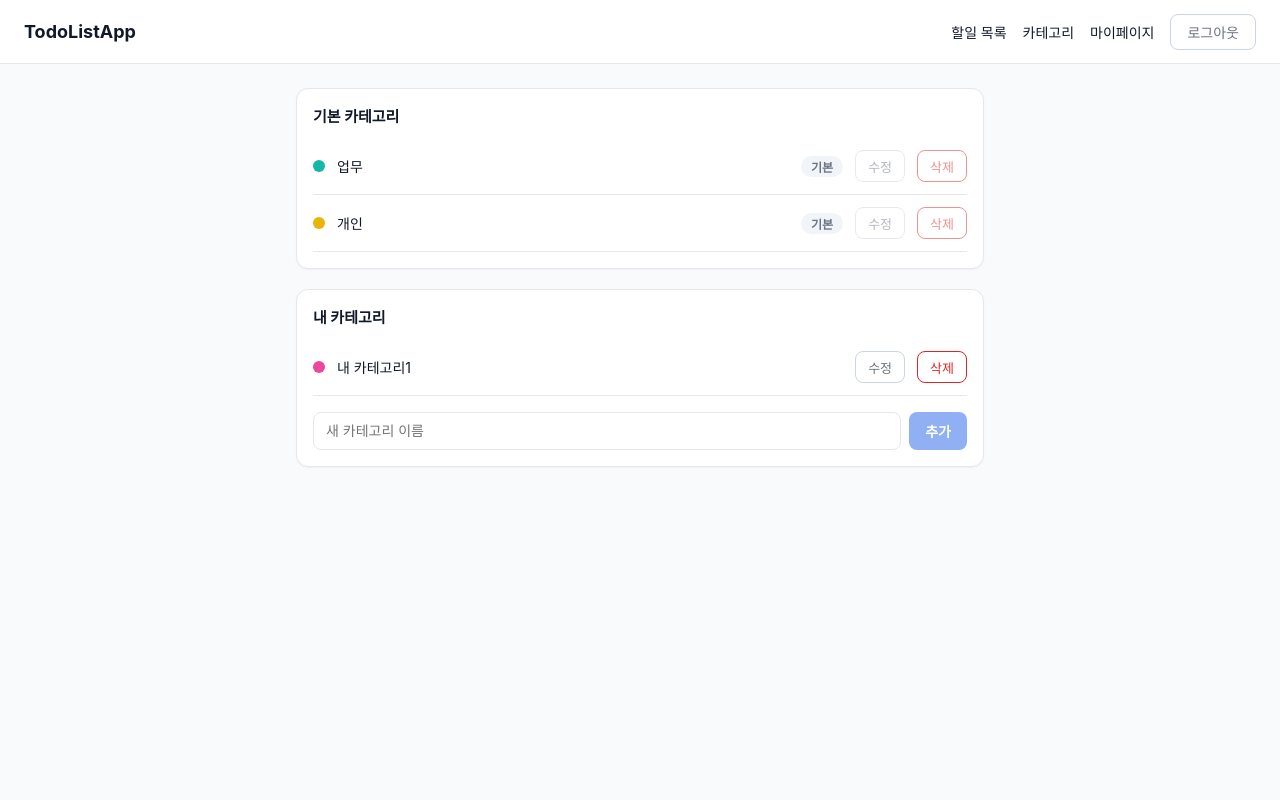
Test: CategoriesPage › 삭제 시 연결 할일 존재(409 CATEGORY_HAS_TODOS) → 친화 오류 메시지
Check: the text "내 카테고리1" is shown, box [337,359,411,376]
What coordinates should you click on to do the following:
click the button "삭제" in the row of "내 카테고리1"
I would click on:
 (942, 367)
Its box is [917,351,967,383].
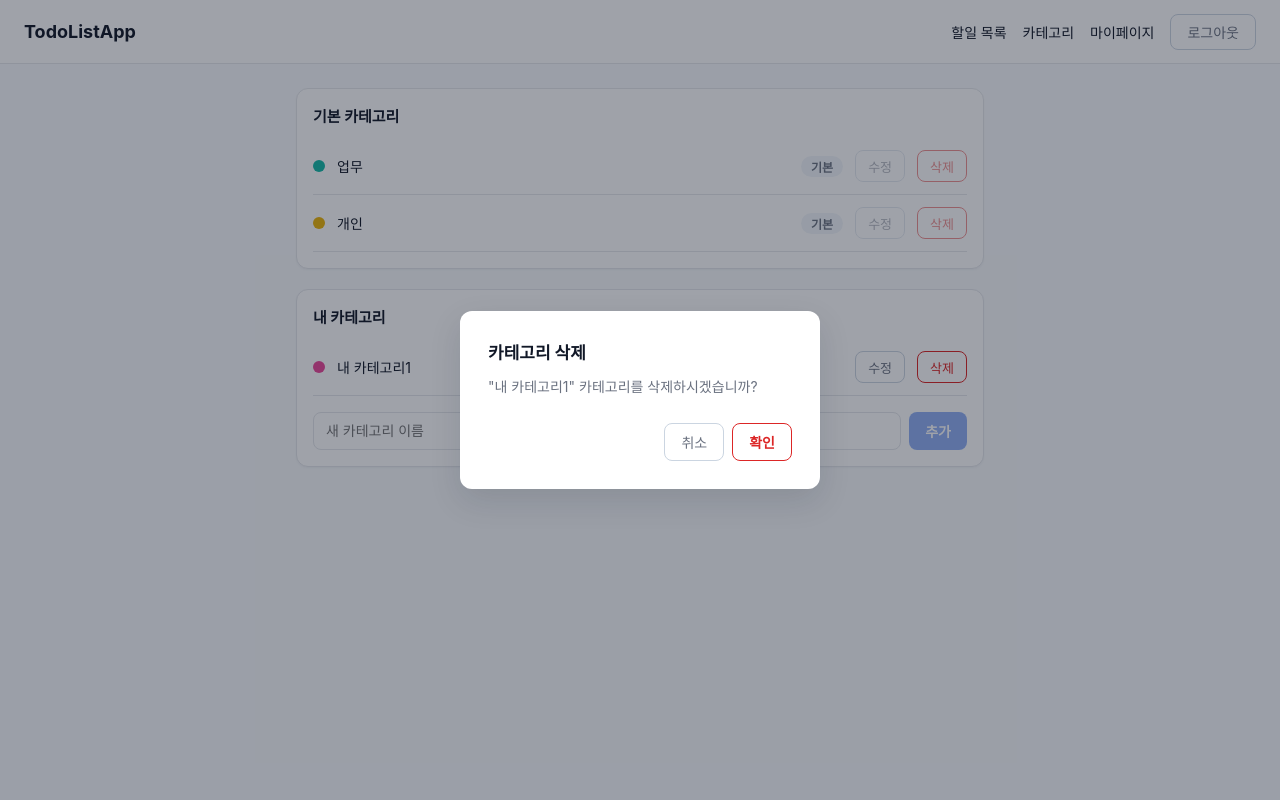
What coordinates should you click on to do the following:
click the button "확인"
I would click on:
 (762, 442)
Its box is [732,423,792,461].
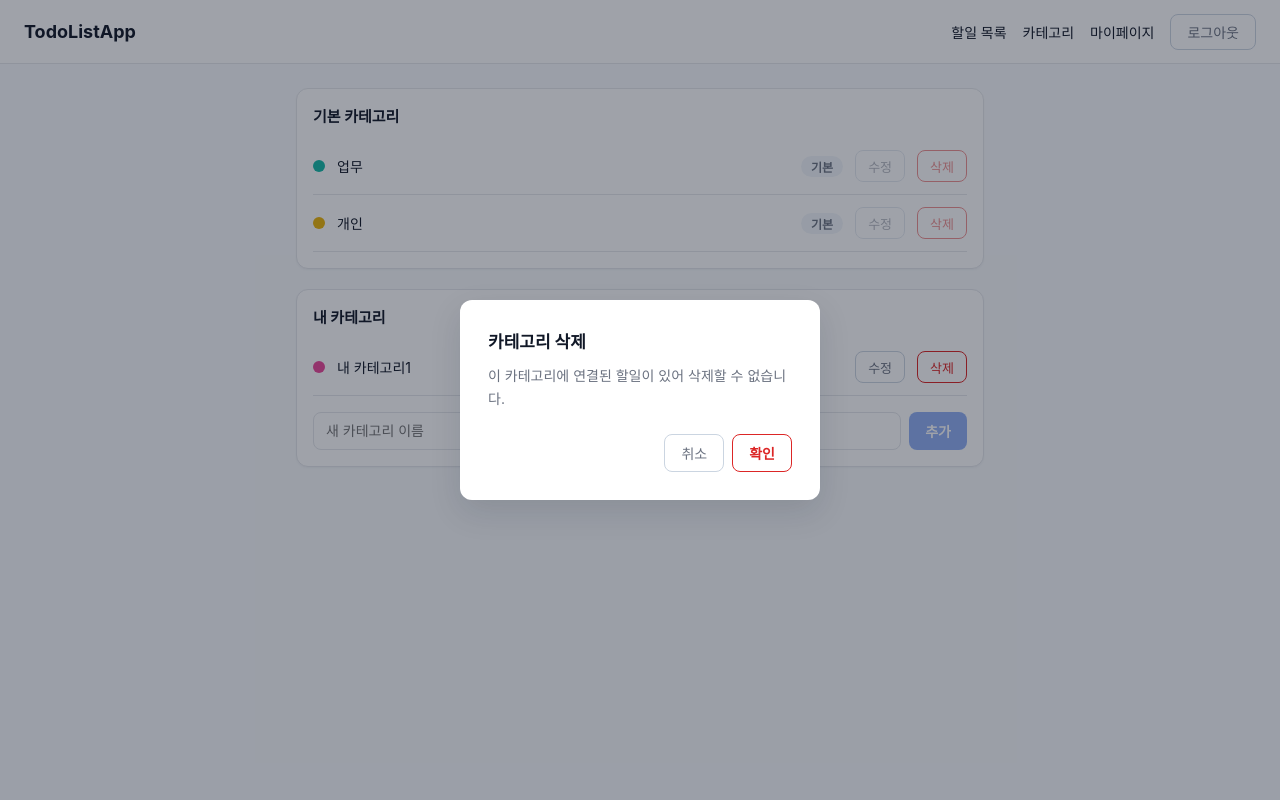
Check: the text "이 카테고리에 연결된 할일이 있어 삭제할 수 없습니다." is shown, box [488,365,792,410]
